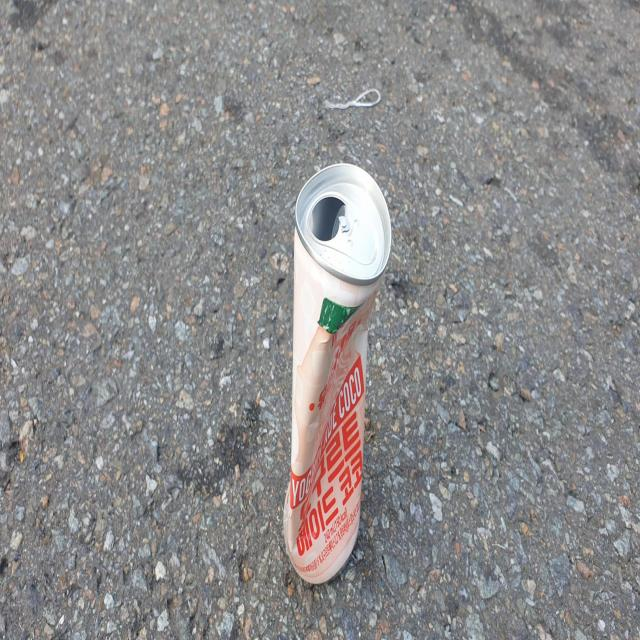can: (284, 162, 392, 583)
